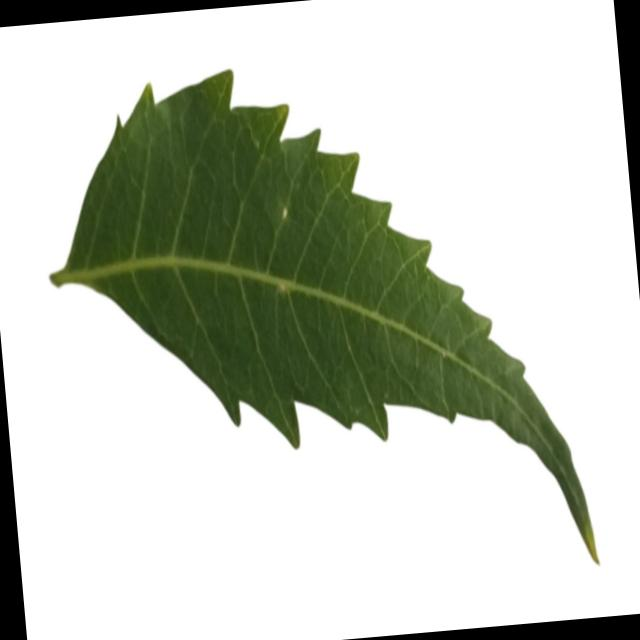Medicinal-Neem: (32, 34, 601, 614)
